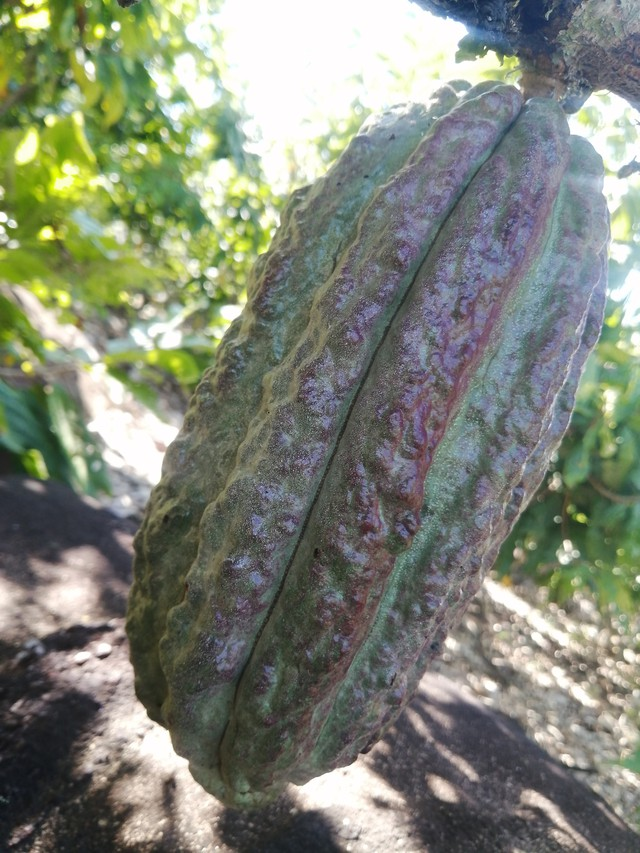Health: (90, 53, 627, 809)
